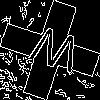W: (25, 25, 84, 83)
